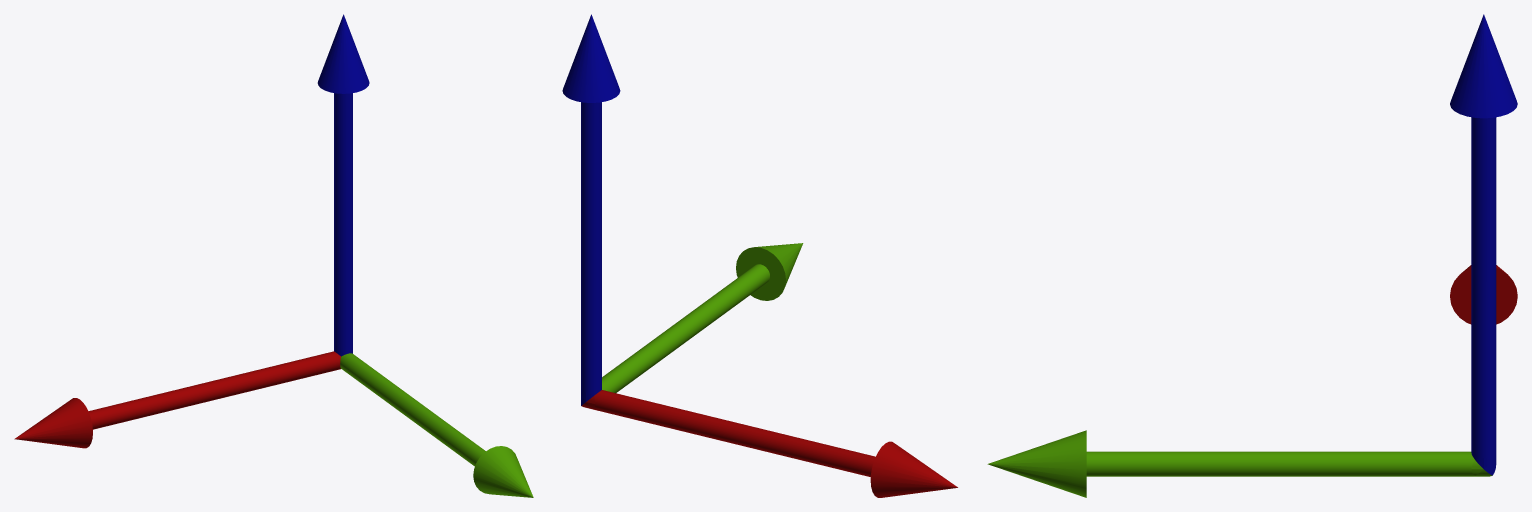
The model's file is axes.obj.
3 views of the same model, side by side, from view 1: azimuth 30°, elevation 25°; view 2: azimuth 150°, elevation 25°; view 3: azimuth 270°, elevation 25° (orthographic). The views are drawn at different scales.
Parts seen in each view (by area): view 1: SketchUp.005_ID39, SketchUp_ID3, SketchUp.003_ID25, SketchUp.004_ID31, SketchUp.001_ID11, SketchUp.002_ID17; view 2: SketchUp.005_ID39, SketchUp_ID3, SketchUp.003_ID25, SketchUp.004_ID31, SketchUp.001_ID11, SketchUp.002_ID17; view 3: SketchUp.003_ID25, SketchUp_ID3, SketchUp.001_ID11, SketchUp.002_ID17, SketchUp.004_ID31.
Part boxes in pixels (bbox=[...]): SketchUp.005_ID39: bbox=[88, 351, 340, 429]; SketchUp_ID3: bbox=[334, 93, 352, 356]; SketchUp.003_ID25: bbox=[340, 353, 485, 466]; SketchUp.004_ID31: bbox=[14, 398, 92, 448]; SketchUp.001_ID11: bbox=[317, 14, 369, 93]; SketchUp.002_ID17: bbox=[473, 446, 533, 497]; SketchUp.005_ID39: bbox=[581, 390, 875, 477]; SketchUp_ID3: bbox=[581, 102, 601, 405]; SketchUp.003_ID25: bbox=[602, 264, 769, 393]; SketchUp.004_ID31: bbox=[870, 441, 957, 497]; SketchUp.001_ID11: bbox=[562, 14, 620, 102]; SketchUp.002_ID17: bbox=[736, 243, 803, 300]; SketchUp.003_ID25: bbox=[1086, 451, 1492, 476]; SketchUp_ID3: bbox=[1471, 117, 1496, 475]; SketchUp.001_ID11: bbox=[1450, 14, 1517, 118]; SketchUp.002_ID17: bbox=[987, 430, 1086, 497]; SketchUp.004_ID31: bbox=[1450, 265, 1517, 324].
Size of the model in its own units: 3.26 by 3.26 by 3.26.
